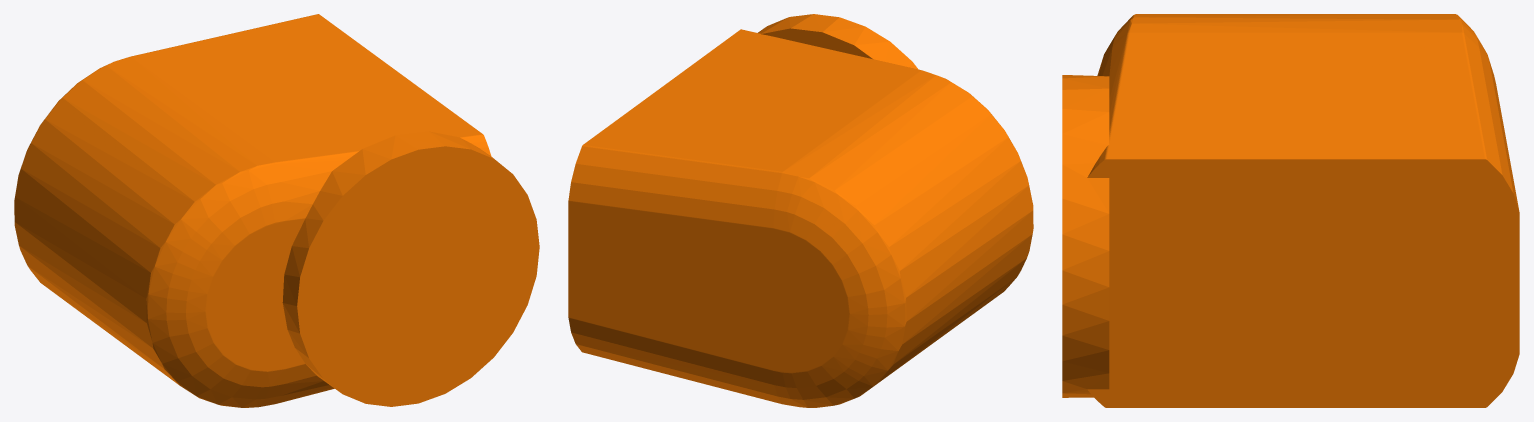
The picture shows the model from 3 angles, left to right: view 1: azimuth 30°, elevation 25°; view 2: azimuth 150°, elevation 25°; view 3: azimuth 270°, elevation 25°; orthographic projection. The views are drawn at different scales.
Parts seen in each view (by area): view 1: link3; view 2: link3; view 3: link3.
Boxes of the visible parts, x1,y1,x2,y2 form: link3: [14, 14, 539, 407]; link3: [568, 14, 1033, 407]; link3: [1062, 14, 1519, 407].
Size of the model in its own units: 0.1918 by 0.13 by 0.1841.
